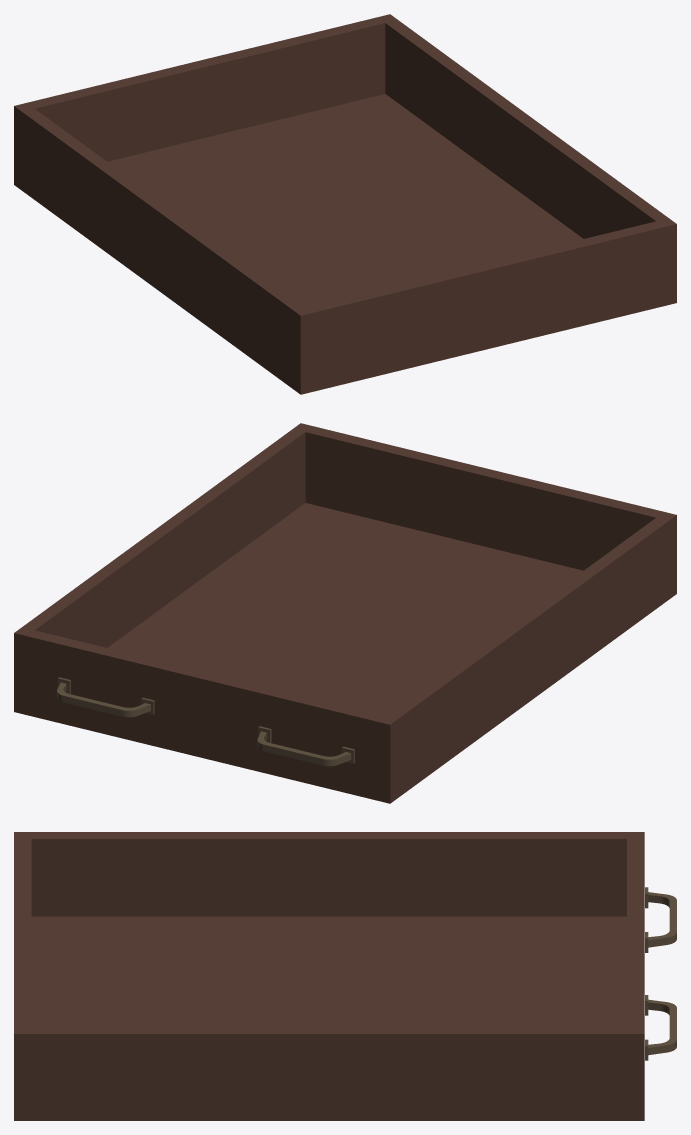
Rendered from SM_DeskDrawerWide_001.fbx.
3 views of the same model, one above another, from view 1: azimuth 30°, elevation 25°; view 2: azimuth 150°, elevation 25°; view 3: azimuth 270°, elevation 25° (orthographic). The views are drawn at different scales.
Visible parts, largest first — view 1: polySurface12; view 2: polySurface12; view 3: polySurface12.
Boxes of the visible parts, x1,y1,x2,y2 form: polySurface12: (14, 14, 676, 394); polySurface12: (14, 423, 676, 803); polySurface12: (14, 832, 676, 1120).
Size of the model in its own units: 51.4 by 10.31 by 71.34.
